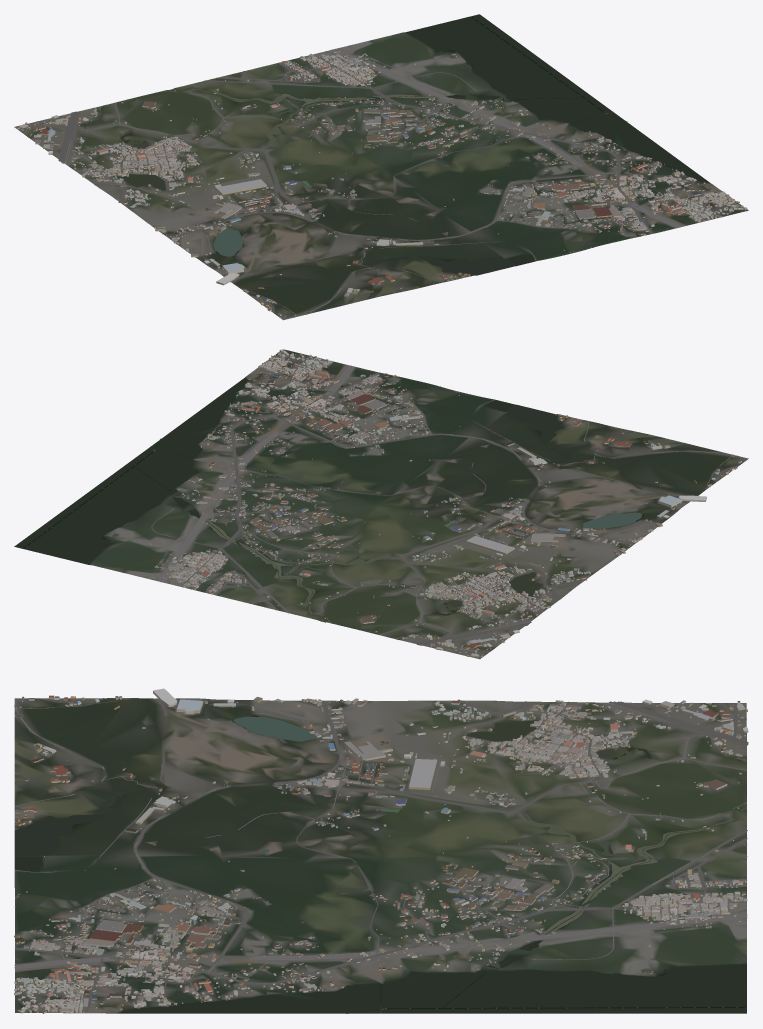
3 renders of one model, top to bottom at view 1: azimuth 30°, elevation 25°; view 2: azimuth 150°, elevation 25°; view 3: azimuth 270°, elevation 25°, orthographic. The views are drawn at different scales.
Parts seen in each view (by area): view 1: ground, buildings, water, roads; view 2: ground, buildings, water, roads; view 3: ground, buildings, water, roads.
Boxes of the visible parts, box(x1,y1,x2,y2) form: ground: box(14, 16, 748, 320); buildings: box(16, 48, 747, 318); water: box(97, 14, 710, 275); roads: box(18, 48, 735, 319); ground: box(14, 349, 748, 659); buildings: box(108, 349, 746, 657); water: box(15, 377, 641, 639); roads: box(137, 361, 747, 656); ground: box(14, 698, 746, 1013); buildings: box(14, 688, 748, 1013); water: box(15, 716, 746, 1013); roads: box(14, 698, 748, 1013).
Bounding box in the file's own units: 2879 × 41.64 × 2812.
